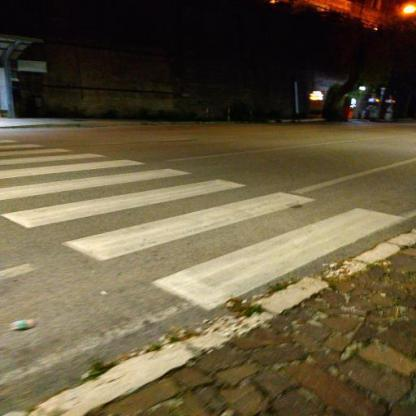crosswalk: (1, 174, 325, 280)
